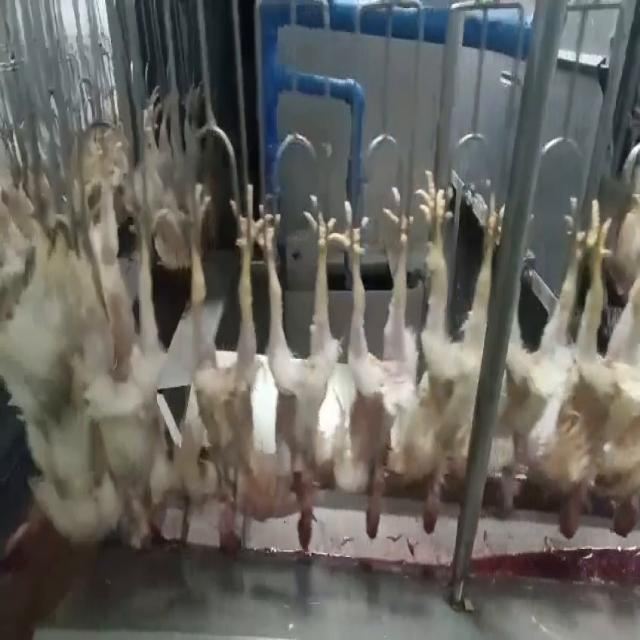chicken: (405, 166, 502, 537), (247, 195, 336, 561), (327, 174, 405, 542), (520, 194, 603, 539), (188, 181, 259, 561), (127, 183, 181, 549), (602, 206, 639, 533)
